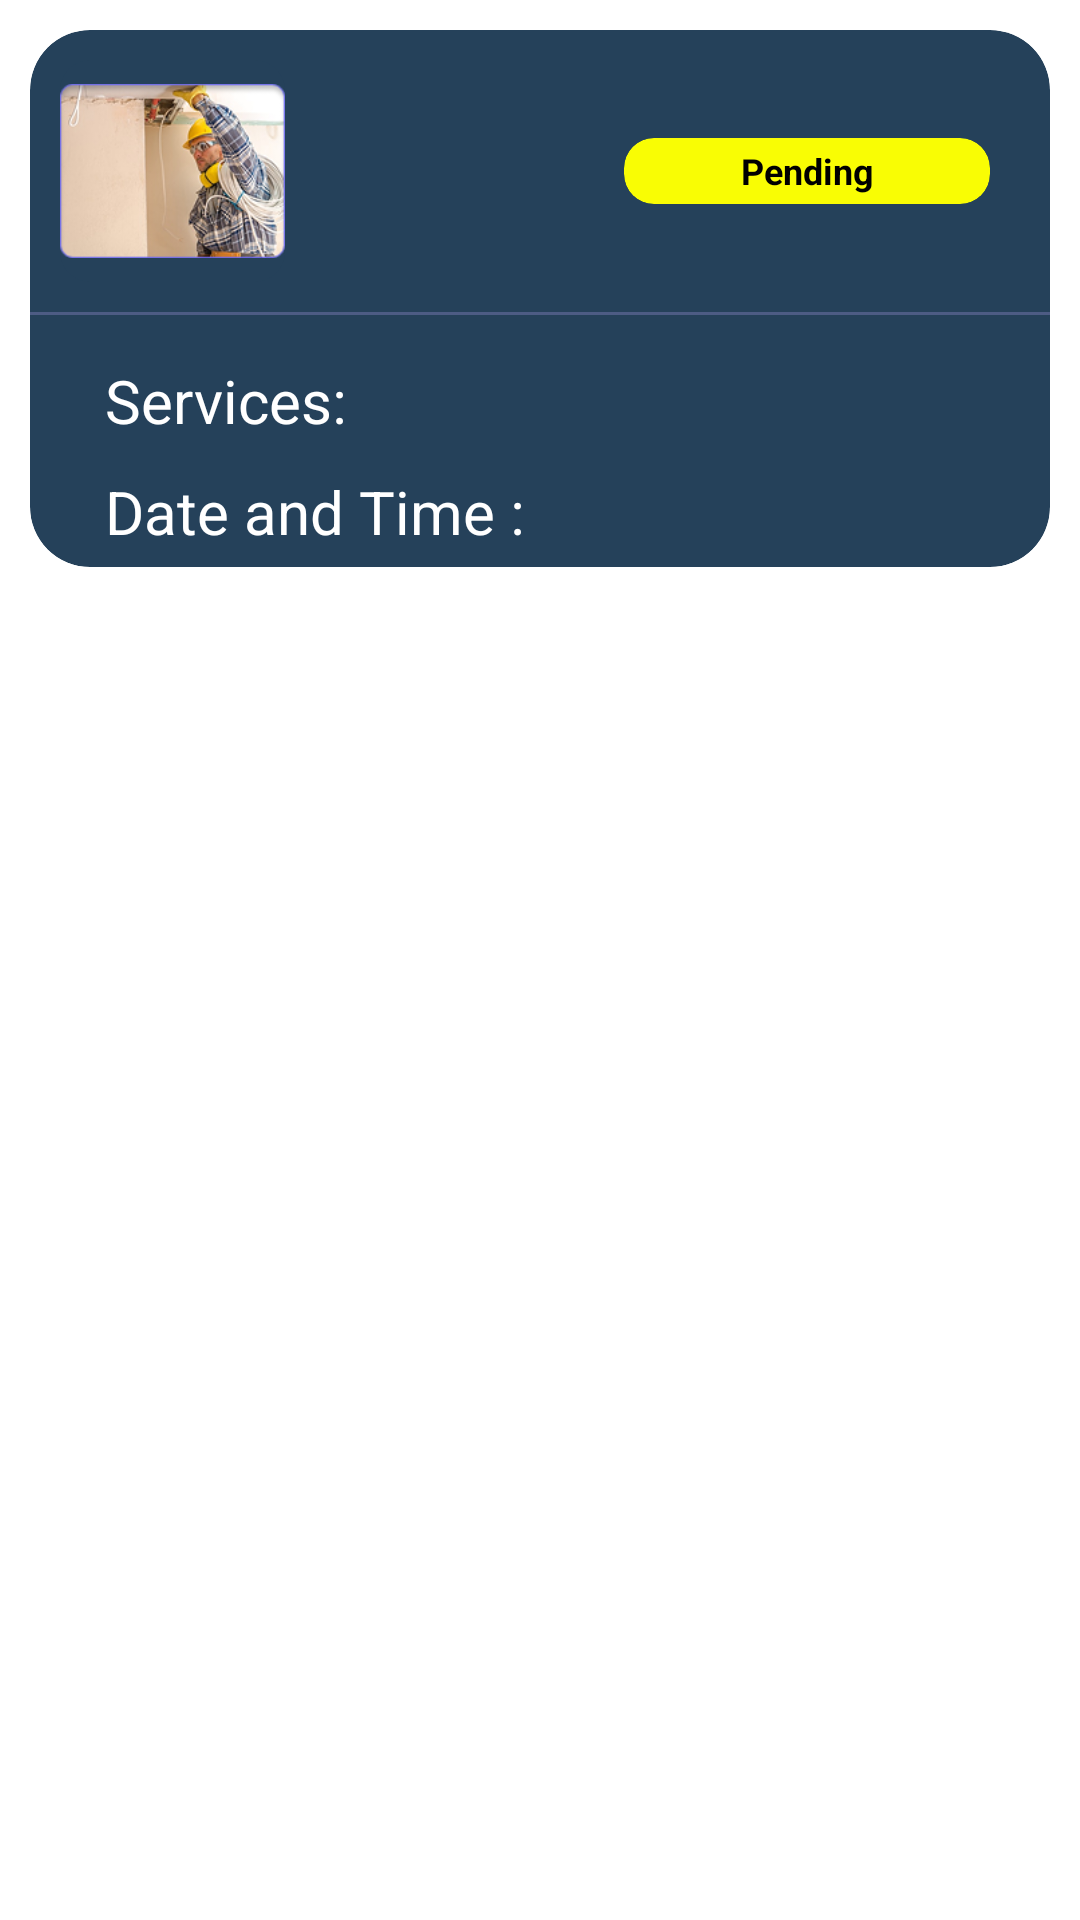

Icons on this 1080w x 1920h Android screen, each with its box as (x1, y1, x2, y2):
electrician: (60, 84, 285, 258)
